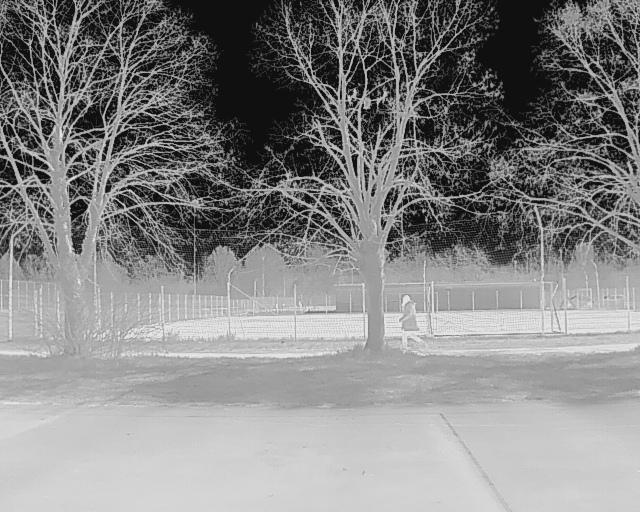drone: (336, 92, 384, 128)
